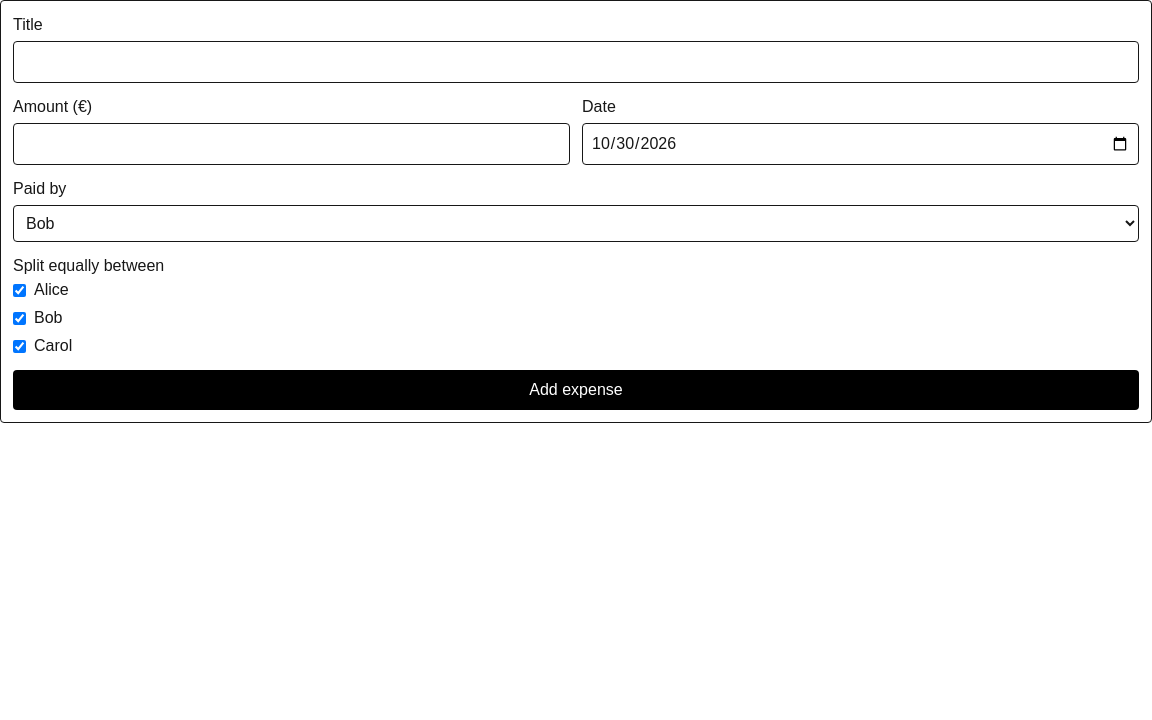
Scenario: ExpenseForm › serverErrorCodeShownAsMessage
Type "Taxi" into the field labelled "Title" at (576, 62), box top-left (13, 41), bottom-right (1139, 83)
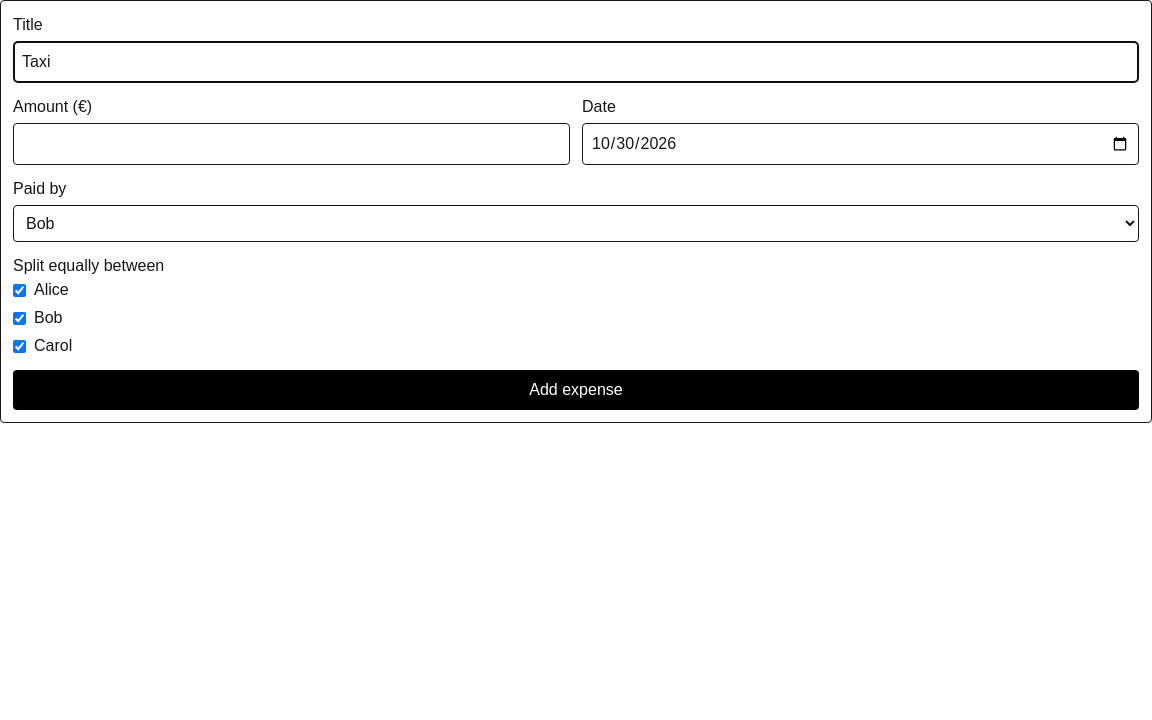
Type "10" into the field labelled "Amount (€)" at (292, 144), box top-left (13, 123), bottom-right (570, 165)
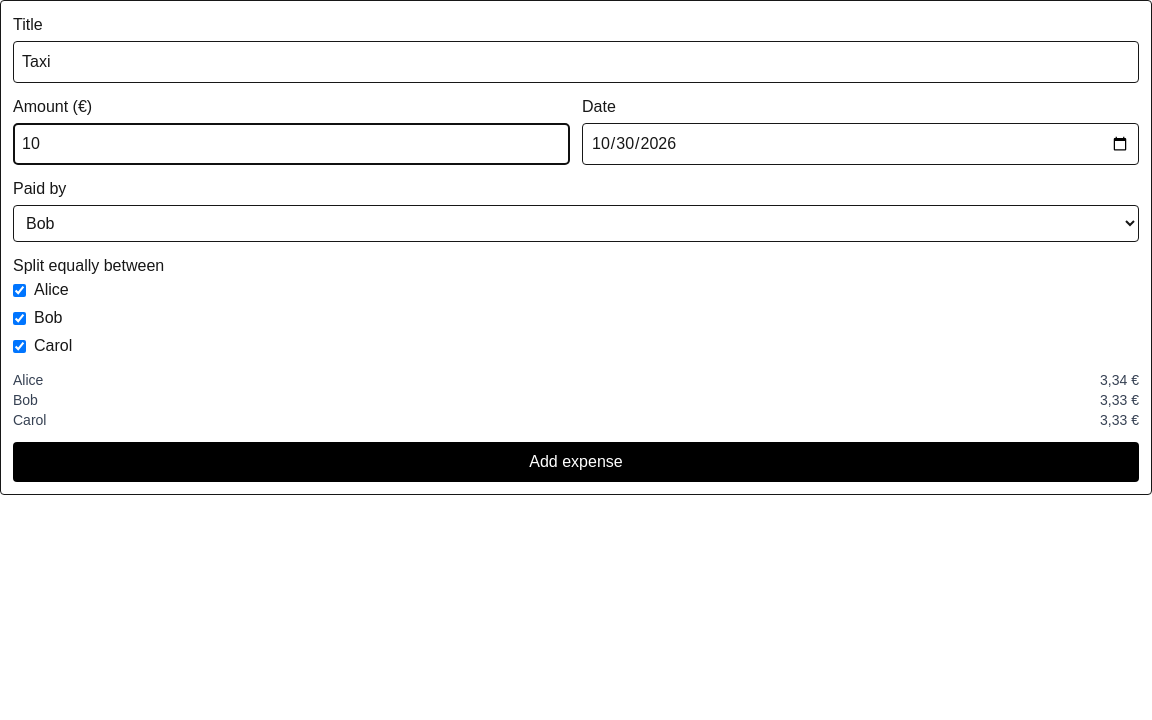
Click the button "Add expense" at (576, 462), box top-left (13, 442), bottom-right (1139, 482)
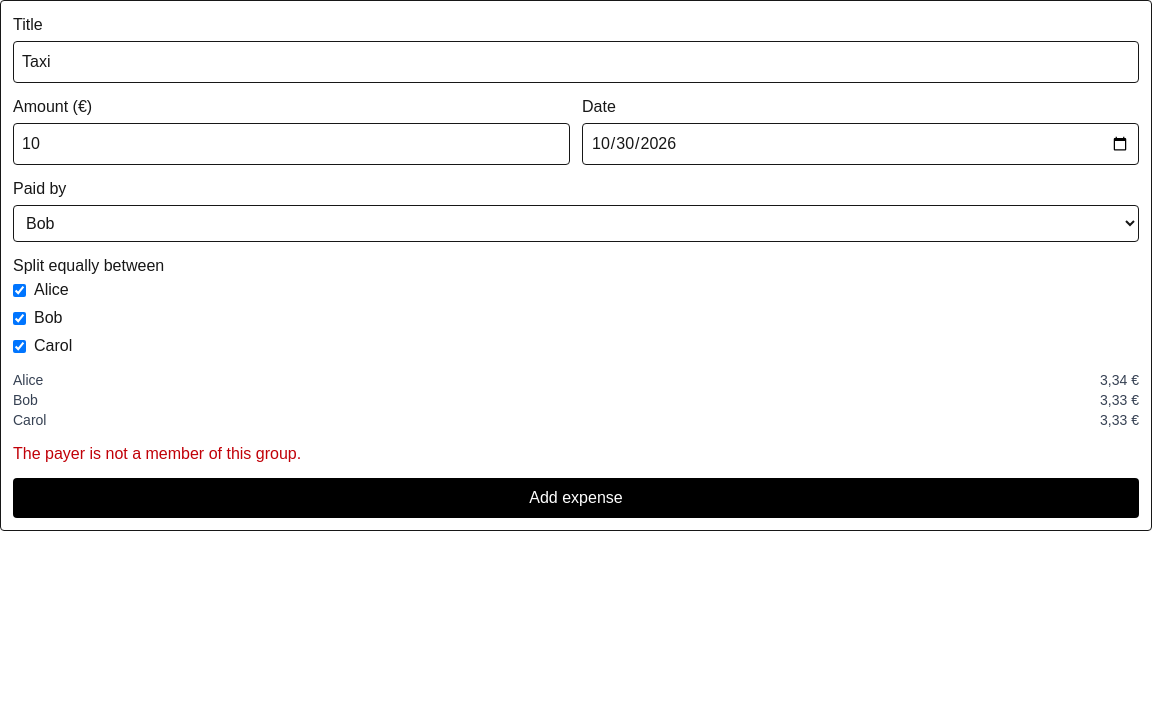
Now the message reads "The payer is not a member of this group.", box top-left (13, 445), bottom-right (301, 462)
